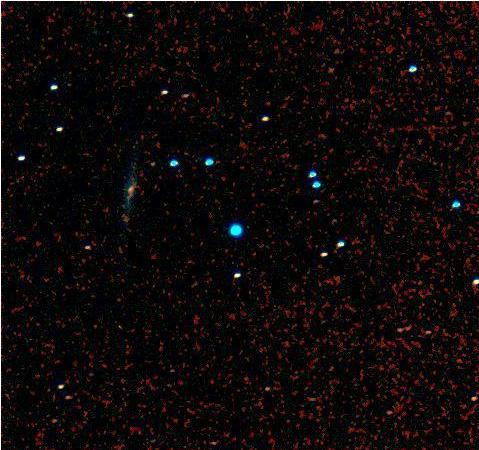star: (108, 205, 138, 235)
